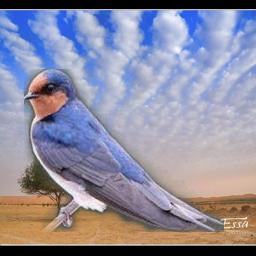Swallow: (24, 69, 224, 232)
